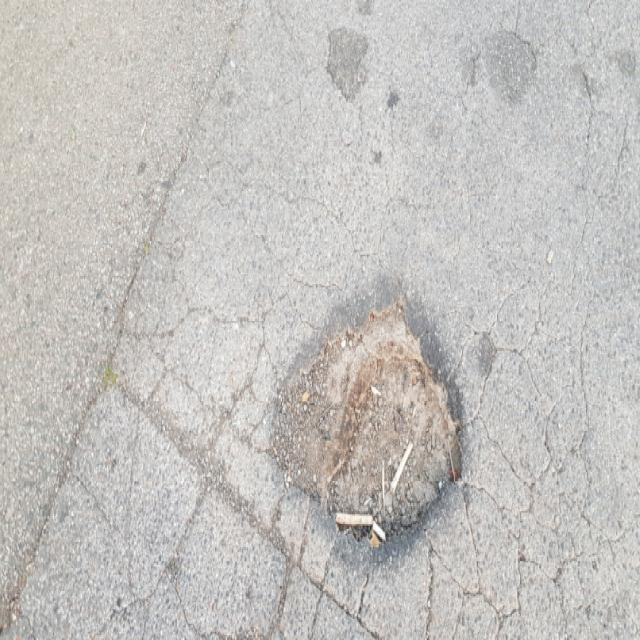Pothole: (264, 278, 469, 566)
